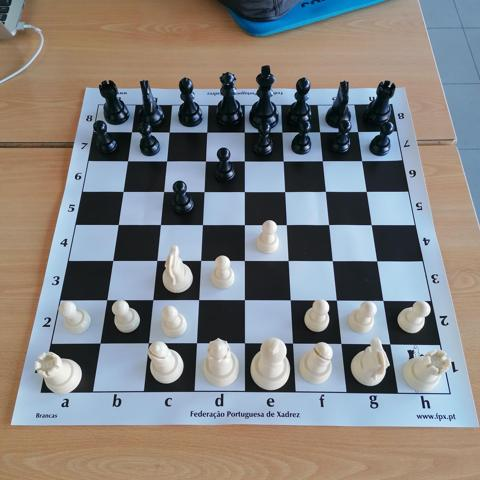xcorner: (117, 151, 135, 168), (107, 216, 125, 233), (150, 216, 168, 233), (142, 293, 160, 310), (198, 122, 216, 139), (193, 216, 211, 233), (189, 293, 207, 310), (236, 216, 254, 233), (236, 253, 254, 270), (236, 293, 254, 310), (276, 151, 294, 168), (279, 216, 297, 233), (281, 253, 299, 270), (285, 337, 303, 354), (351, 122, 369, 139), (360, 182, 378, 199), (122, 122, 139, 139), (113, 182, 130, 199), (102, 253, 119, 270), (96, 293, 113, 310), (89, 337, 106, 354), (160, 122, 177, 139), (157, 151, 174, 168), (154, 182, 171, 199), (147, 253, 164, 270), (138, 337, 155, 354), (197, 151, 214, 168), (195, 182, 212, 199), (192, 253, 209, 270), (187, 337, 204, 354), (237, 122, 254, 139), (237, 151, 254, 168), (237, 182, 254, 199), (236, 337, 253, 354), (275, 122, 292, 139), (278, 182, 295, 199), (283, 293, 300, 310), (313, 122, 330, 139), (316, 151, 333, 168), (319, 182, 336, 199), (323, 216, 340, 233), (326, 253, 343, 270), (330, 293, 347, 310), (335, 337, 352, 354), (356, 151, 373, 168), (366, 216, 383, 233), (371, 253, 388, 270), (377, 293, 394, 310), (384, 337, 401, 354)
